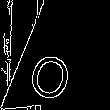O_NE: (24, 37, 79, 101)
